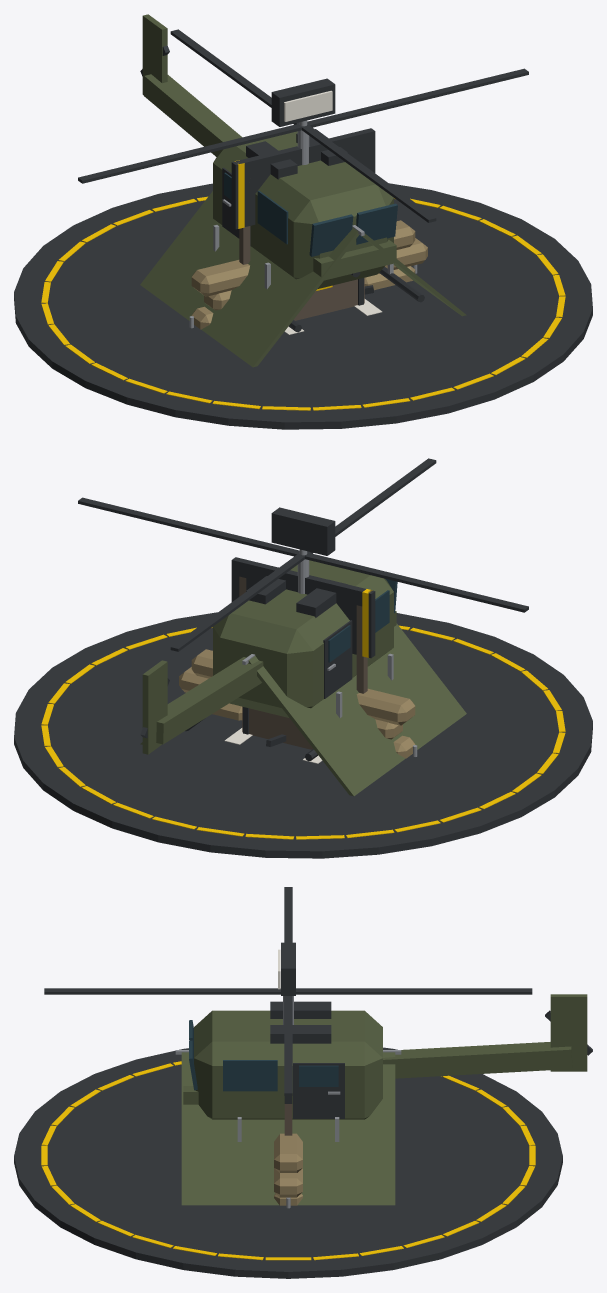
Rendered from outbreak-kit-import.fbx.
3 renders of one model, top to bottom at view 1: azimuth 30°, elevation 25°; view 2: azimuth 150°, elevation 25°; view 3: azimuth 270°, elevation 25°, orthographic. The views are drawn at different scales.
Visible parts, largest first — view 1: Kit_Helipad_00, Kit_FieldTent_01, Kit_UtilityHelicopter_00, Kit_DestinationSign_02, Kit_UtilityHelicopter_17, Kit_UtilityHelicopter_14, Kit_UtilityHelicopter_18, Kit_UtilityHelicopter_13, Kit_UtilityHelicopter_15, Kit_SandbagWall_08, Kit_SupplyCrate_00, Kit_Floodlight_02 (+7 smaller); view 2: Kit_Helipad_00, Kit_FieldTent_01, Kit_UtilityHelicopter_00, Kit_UtilityHelicopter_14, Kit_UtilityHelicopter_17, Kit_DestinationSign_02, Kit_UtilityHelicopter_18, Kit_Floodlight_02, Kit_UtilityHelicopter_15, Kit_SandbagWall_08, Kit_SupplyCrate_00, Kit_UtilityHelicopter_03 (+3 smaller); view 3: Kit_Helipad_00, Kit_FieldTent_02, Kit_UtilityHelicopter_00, Kit_UtilityHelicopter_14, Kit_UtilityHelicopter_18, Kit_UtilityHelicopter_15, Kit_UtilityHelicopter_09, Kit_UtilityHelicopter_08, Kit_UtilityHelicopter_17, Kit_SandbagWall_11, Kit_UtilityHelicopter_12, Kit_UtilityHelicopter_06 (+3 smaller).
Part boxes in pixels (x1,y1,x2,y2): Kit_Helipad_00: [14, 183, 592, 429]; Kit_FieldTent_01: [140, 191, 358, 367]; Kit_UtilityHelicopter_00: [213, 131, 393, 288]; Kit_DestinationSign_02: [231, 128, 375, 229]; Kit_UtilityHelicopter_17: [78, 68, 528, 183]; Kit_UtilityHelicopter_14: [143, 74, 242, 156]; Kit_UtilityHelicopter_18: [170, 29, 436, 222]; Kit_UtilityHelicopter_13: [313, 240, 396, 280]; Kit_UtilityHelicopter_15: [142, 14, 167, 94]; Kit_SandbagWall_08: [191, 260, 249, 296]; Kit_SupplyCrate_00: [294, 277, 364, 320]; Kit_Floodlight_02: [271, 78, 335, 126]; Kit_Helipad_00: [14, 612, 592, 858]; Kit_FieldTent_01: [248, 623, 466, 796]; Kit_UtilityHelicopter_00: [213, 560, 393, 717]; Kit_UtilityHelicopter_14: [156, 657, 263, 744]; Kit_UtilityHelicopter_17: [78, 497, 528, 612]; Kit_DestinationSign_02: [231, 557, 375, 658]; Kit_UtilityHelicopter_18: [170, 458, 436, 651]; Kit_Floodlight_02: [271, 507, 335, 555]; Kit_UtilityHelicopter_15: [142, 660, 167, 754]; Kit_SandbagWall_08: [356, 688, 415, 725]; Kit_SupplyCrate_00: [242, 706, 313, 749]; Kit_UtilityHelicopter_03: [323, 620, 352, 698]; Kit_Helipad_00: [14, 1047, 562, 1278]; Kit_FieldTent_02: [181, 1052, 395, 1205]; Kit_UtilityHelicopter_00: [194, 1010, 382, 1119]; Kit_UtilityHelicopter_14: [383, 1042, 572, 1078]; Kit_UtilityHelicopter_18: [44, 988, 532, 994]; Kit_UtilityHelicopter_15: [550, 994, 587, 1071]; Kit_UtilityHelicopter_09: [293, 1063, 344, 1118]; Kit_UtilityHelicopter_08: [223, 1060, 277, 1091]; Kit_UtilityHelicopter_17: [284, 887, 292, 1095]; Kit_SandbagWall_11: [274, 1133, 302, 1172]; Kit_UtilityHelicopter_12: [270, 1025, 331, 1043]; Kit_UtilityHelicopter_06: [270, 1001, 331, 1018].
Size of the model in its own units: 1800 by 756 by 1898.
